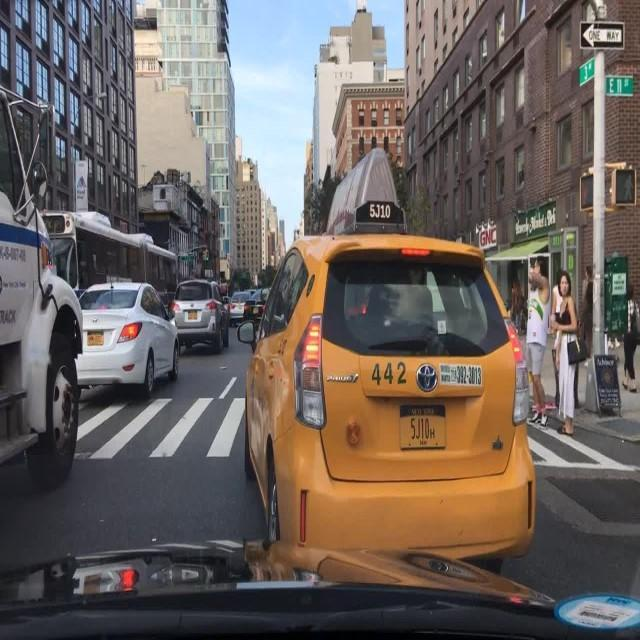normal: (207, 137, 580, 601), (59, 262, 197, 413)
